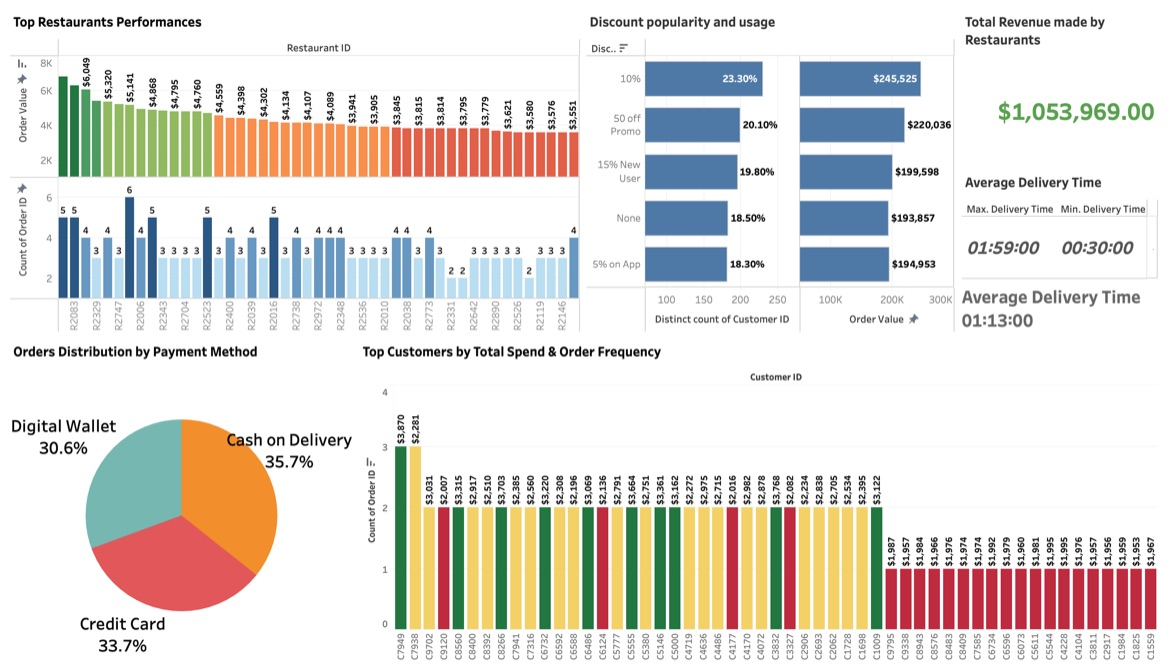

This screenshot's page, from the dashboard's own definition file:
{"tool":"tableau","page":{"name":"Dashboard 1","canvas":[1000,1000],"units":"permille","ordinal":0},"visuals":[{"type":"worksheet","title":"Sheet 4","mark":"Automatic","rows":["Order Value","Order ID"],"cols":["Restaurant ID"],"box":[6.5,12.2,493,487.8]},{"type":"worksheet","title":"Sheet 5","mark":"Automatic","rows":["Discounts and Offers"],"cols":["Customer ID","Order Value"],"box":[499.5,12.2,320.5,487.8]},{"type":"worksheet","title":"Sheet 7","mark":"Automatic","box":[820,12.2,173.5,237.6]},{"type":"worksheet","title":"Sheet 8","mark":"Automatic","rows":["Delivery Time ","Delivery Time "],"box":[820,249.8,173.5,250.2]},{"type":"worksheet","title":"Sheet 1","mark":"Pie","box":[6.5,500,298.4,487.8]},{"type":"worksheet","title":"Sheet 6","mark":"Automatic","rows":["Order ID"],"cols":["Customer ID"],"box":[304.9,500,688.6,487.8]}]}

Visuals, with their boxes on the dashboard's canvas, which has no fixed pixel size, in thousandths of its width and height (x1, y1, x2, y2). These are canvas units, not pixel positions in the 1168x672 screenshot, which may show the page scaled, cropped or inside an application window:
"Sheet 4" worksheet: (left=6, top=12, right=500, bottom=500)
"Sheet 5" worksheet: (left=500, top=12, right=820, bottom=500)
"Sheet 7" worksheet: (left=820, top=12, right=994, bottom=250)
"Sheet 8" worksheet: (left=820, top=250, right=994, bottom=500)
"Sheet 1" worksheet (Pie marks): (left=6, top=500, right=305, bottom=988)
"Sheet 6" worksheet: (left=305, top=500, right=994, bottom=988)
